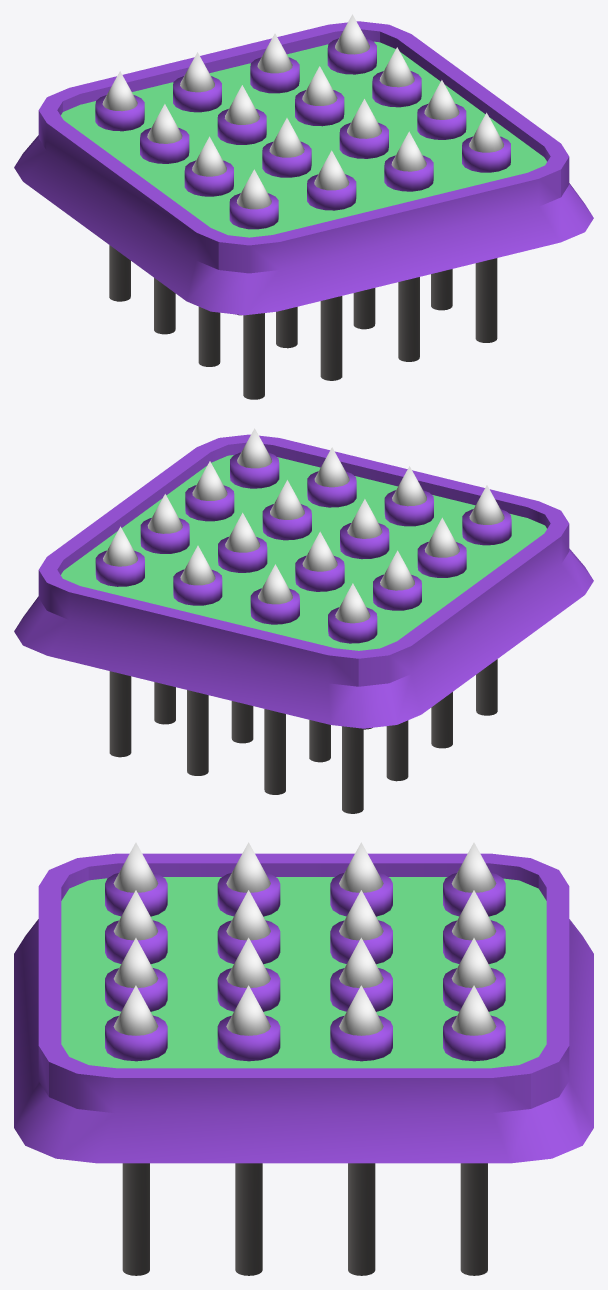
The model's file is Obstacle 6 V4.fbx.
3 views of the same model, one above another, from view 1: azimuth 30°, elevation 25°; view 2: azimuth 150°, elevation 25°; view 3: azimuth 270°, elevation 25° (orthographic). The views are drawn at different scales.
Visible parts, largest first — view 1: O6 Part 1, O6 Part 2; view 2: O6 Part 1, O6 Part 2; view 3: O6 Part 1, O6 Part 2.
Part boxes in pixels (x1,y1,x2,y2): O6 Part 1: (14, 21, 593, 315); O6 Part 2: (95, 14, 510, 399); O6 Part 1: (14, 434, 593, 728); O6 Part 2: (95, 428, 511, 813); O6 Part 1: (14, 853, 593, 1163); O6 Part 2: (105, 842, 505, 1275).
Size of the model in its own units: 125 by 67.55 by 125.
Materials: 1 (1 with a texture image).
